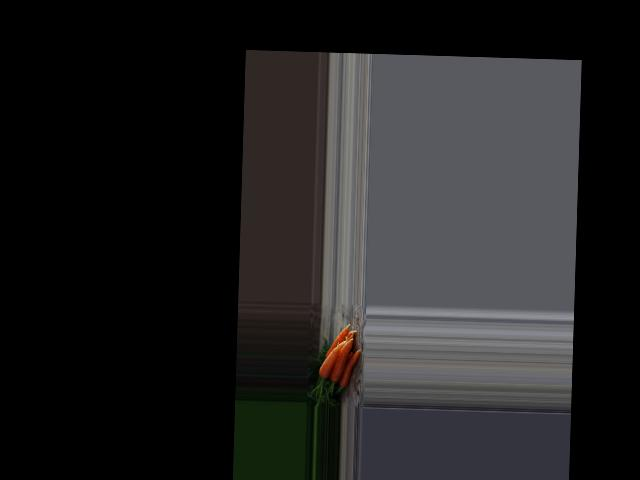carrot: (337, 344, 361, 388)
